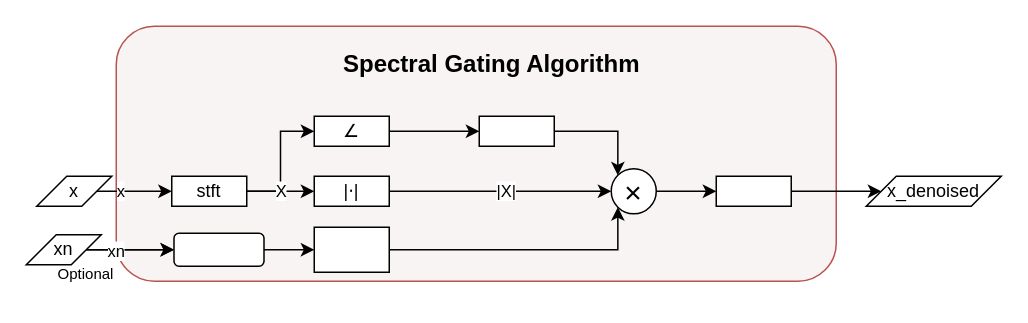
The diagram is 1028 pixels wide and 323 high, and some of its shapes have lost their labels. Each missing label, with the centre of its shape:
"exp(j(*))" goes at (x=516, y=130).
"istft" goes at (x=753, y=190).
"Mask Smooth" goes at (x=351, y=249).
"TF-Mask" goes at (x=218, y=249).
